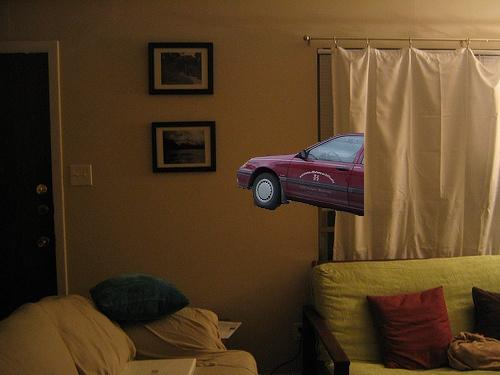tampered: (238, 134, 364, 216)
